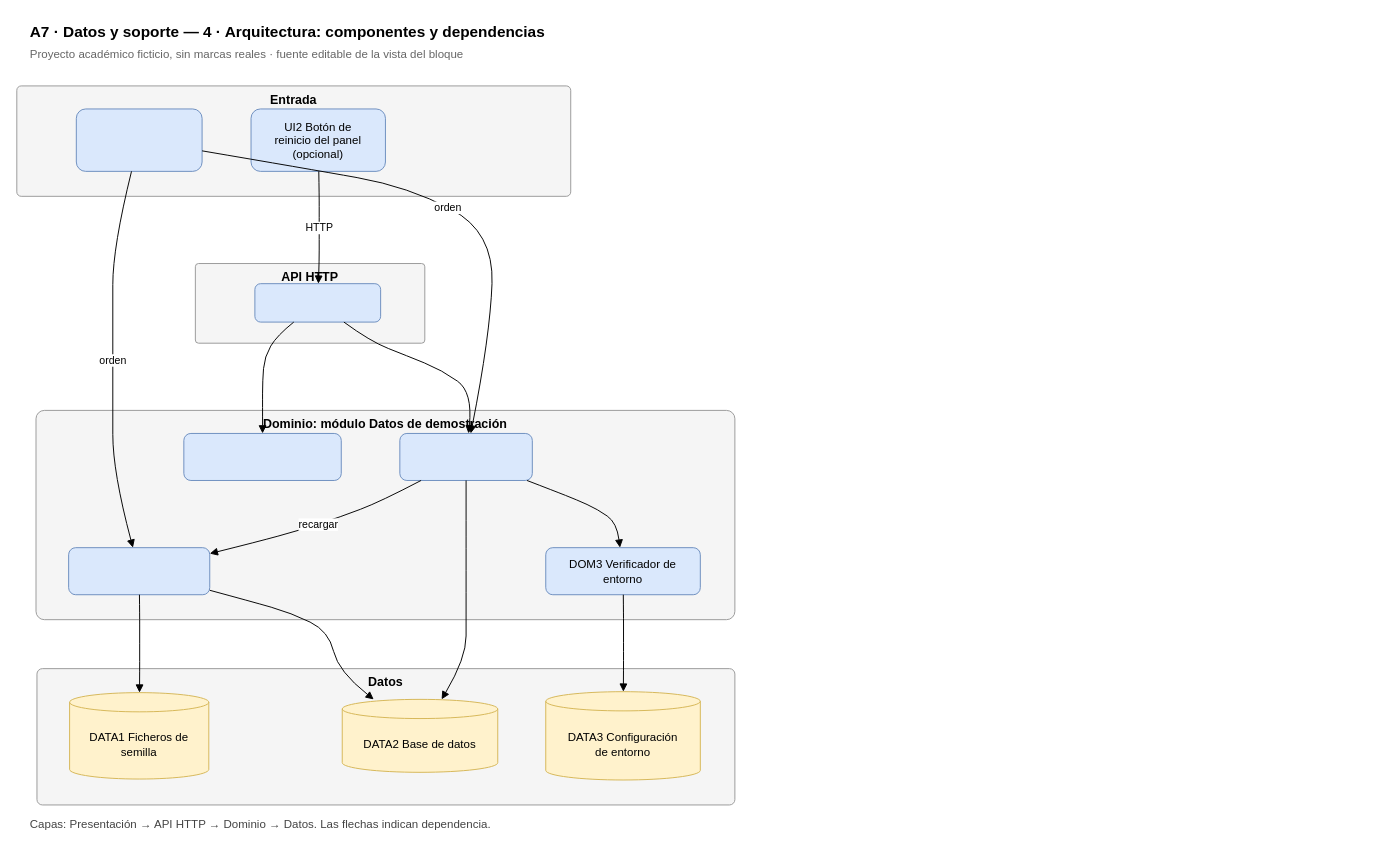
Image size: 1389x850. Some labels were removed from this diagram. Each missing label, with the centre of its shape:
API1 API interna: the point at 317,302
DOM1 Cargador de semilla: the point at 139,571
DOM2 Servicio de reinicio: the point at 465,456
DOM4 Convención de errores: the point at 262,456
UI1 Comando de datos de demostración: the point at 138,139
